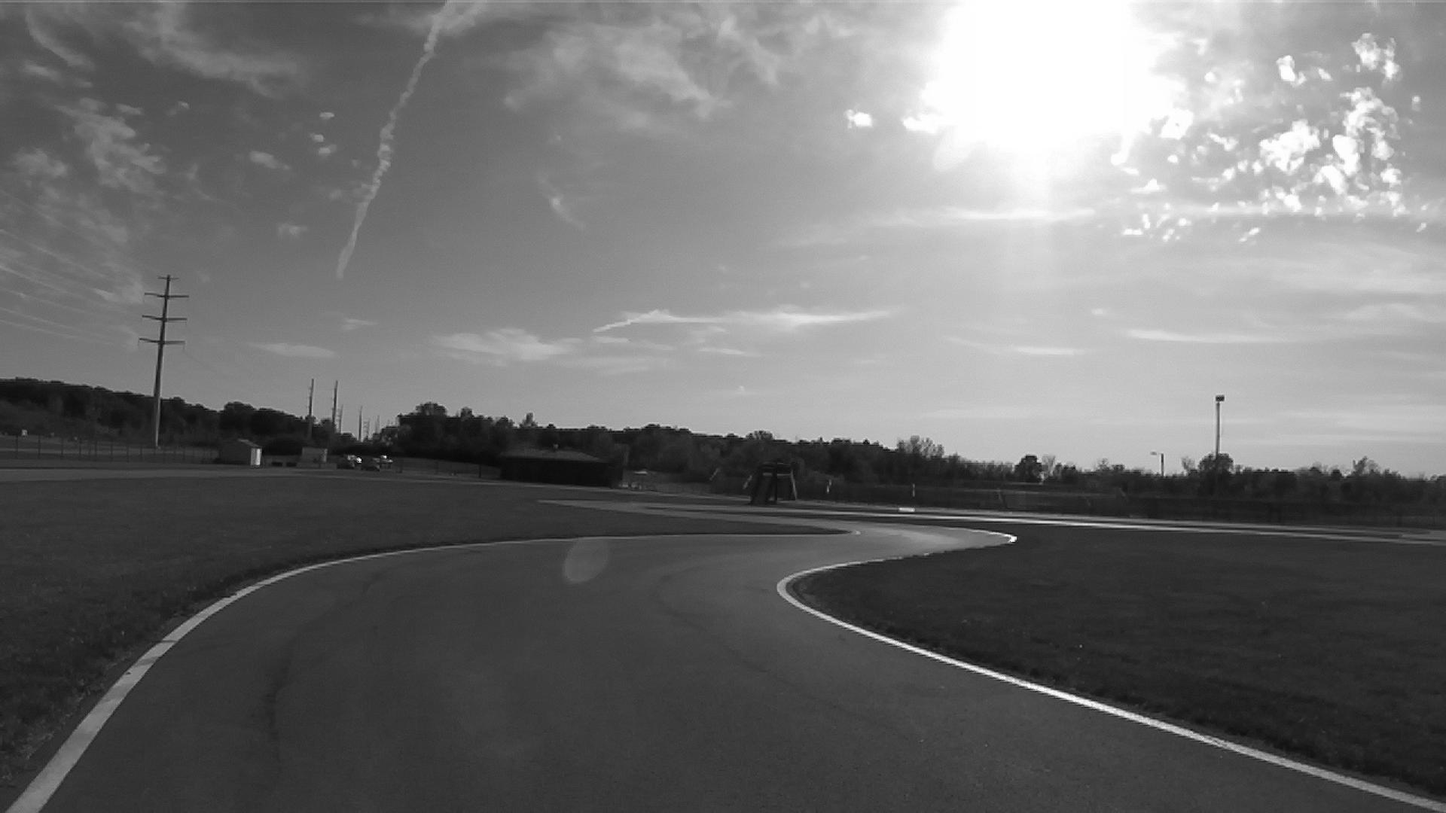white-line: (8, 536, 659, 812), (776, 559, 1445, 812), (973, 530, 1016, 542)
